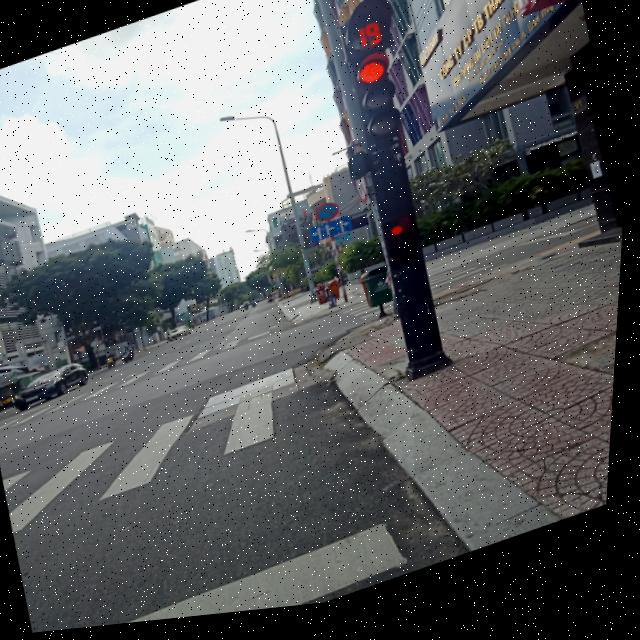Red: (345, 51, 411, 160), (379, 216, 431, 284)
